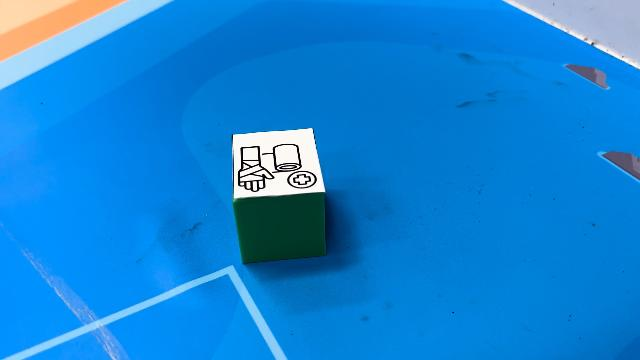bandage: (232, 128, 328, 264)
